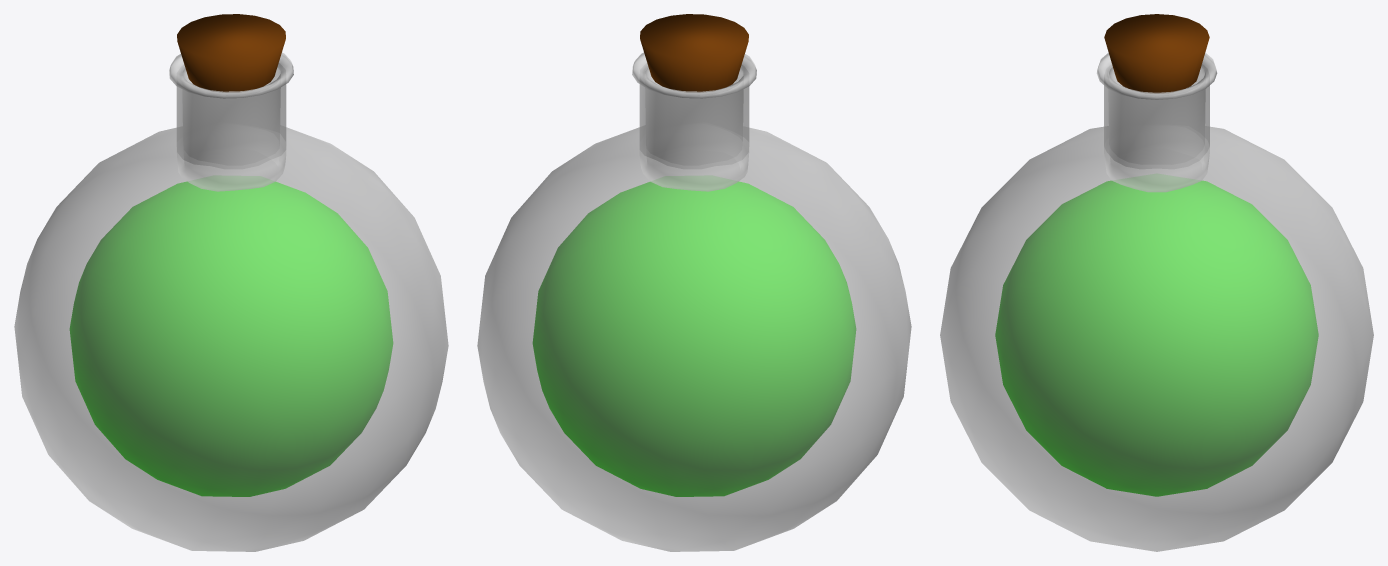
The model's file is potion bottle.fbx.
The picture shows the model from 3 angles, left to right: view 1: azimuth 30°, elevation 25°; view 2: azimuth 150°, elevation 25°; view 3: azimuth 270°, elevation 25°; orthographic projection.
Parts seen in each view (by area): view 1: potion bottle.001; view 2: potion bottle.001; view 3: potion bottle.001.
Boxes of the visible parts, x1,y1,x2,y2 form: potion bottle.001: (14, 14, 448, 551); potion bottle.001: (477, 14, 911, 551); potion bottle.001: (940, 14, 1373, 551).
Bounding box in the file's own units: 200 × 251 × 200.
